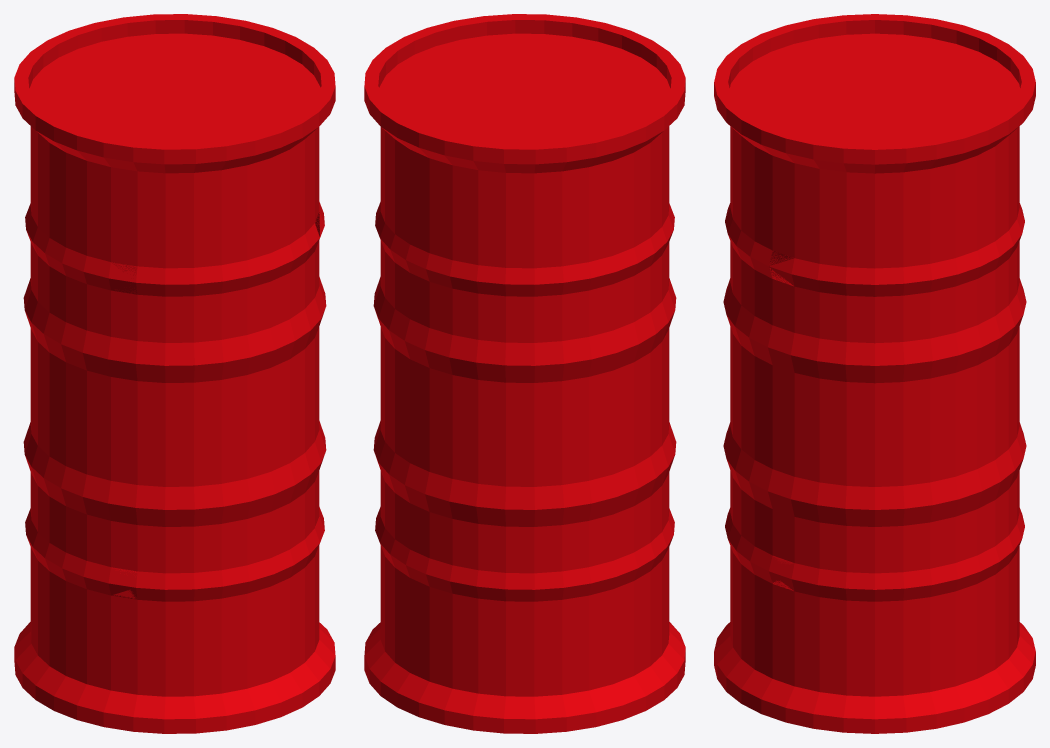
3 views of the same model, side by side, from view 1: azimuth 30°, elevation 25°; view 2: azimuth 150°, elevation 25°; view 3: azimuth 270°, elevation 25° (orthographic).
Visible parts, largest first — view 1: Цилиндр; view 2: Цилиндр; view 3: Цилиндр.
Part boxes in pixels (x1,y1,x2,y2): Цилиндр: (14, 14, 335, 733); Цилиндр: (364, 14, 685, 733); Цилиндр: (714, 14, 1035, 733).
Size of the model in its own units: 447 by 896 by 447.
